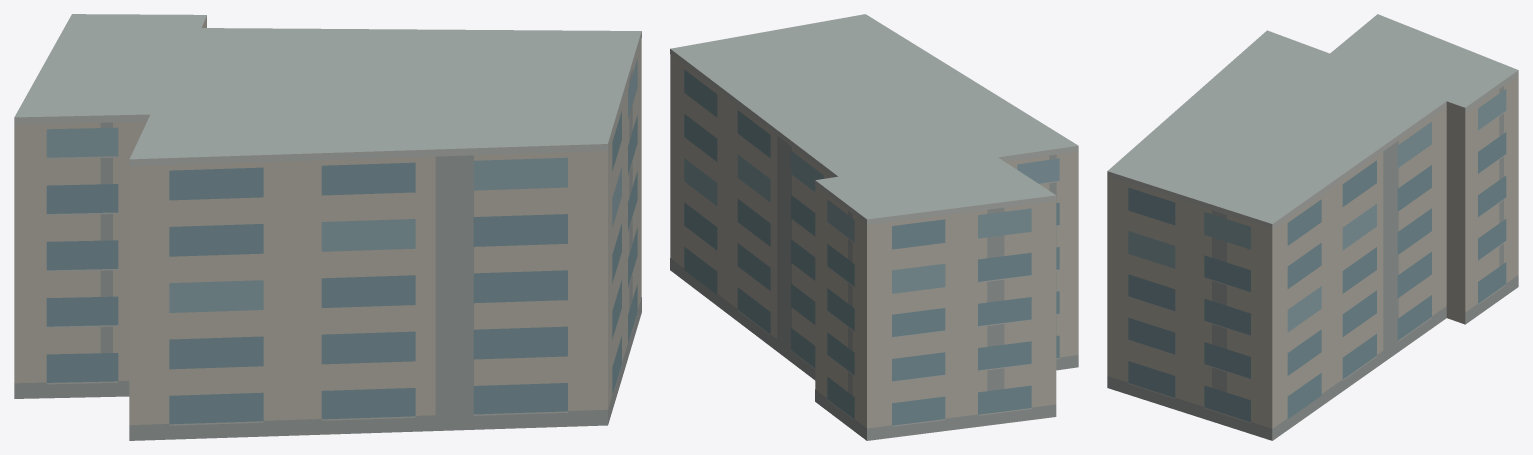
Rendered from survey-upis-32472393.glb.
The picture shows the model from 3 angles, left to right: view 1: azimuth 30°, elevation 25°; view 2: azimuth 150°, elevation 25°; view 3: azimuth 270°, elevation 25°; orthographic projection. The views are drawn at different scales.
Parts seen in each view (by area): view 1: survey-upis-32472393.tmp; view 2: survey-upis-32472393.tmp; view 3: survey-upis-32472393.tmp.
Boxes of the visible parts, box(x1,y1,x2,y2) form: survey-upis-32472393.tmp: box(14, 14, 641, 440); survey-upis-32472393.tmp: box(670, 14, 1078, 440); survey-upis-32472393.tmp: box(1107, 14, 1518, 440).
Size of the model in its own units: 20.23 by 9.73 by 16.74.
